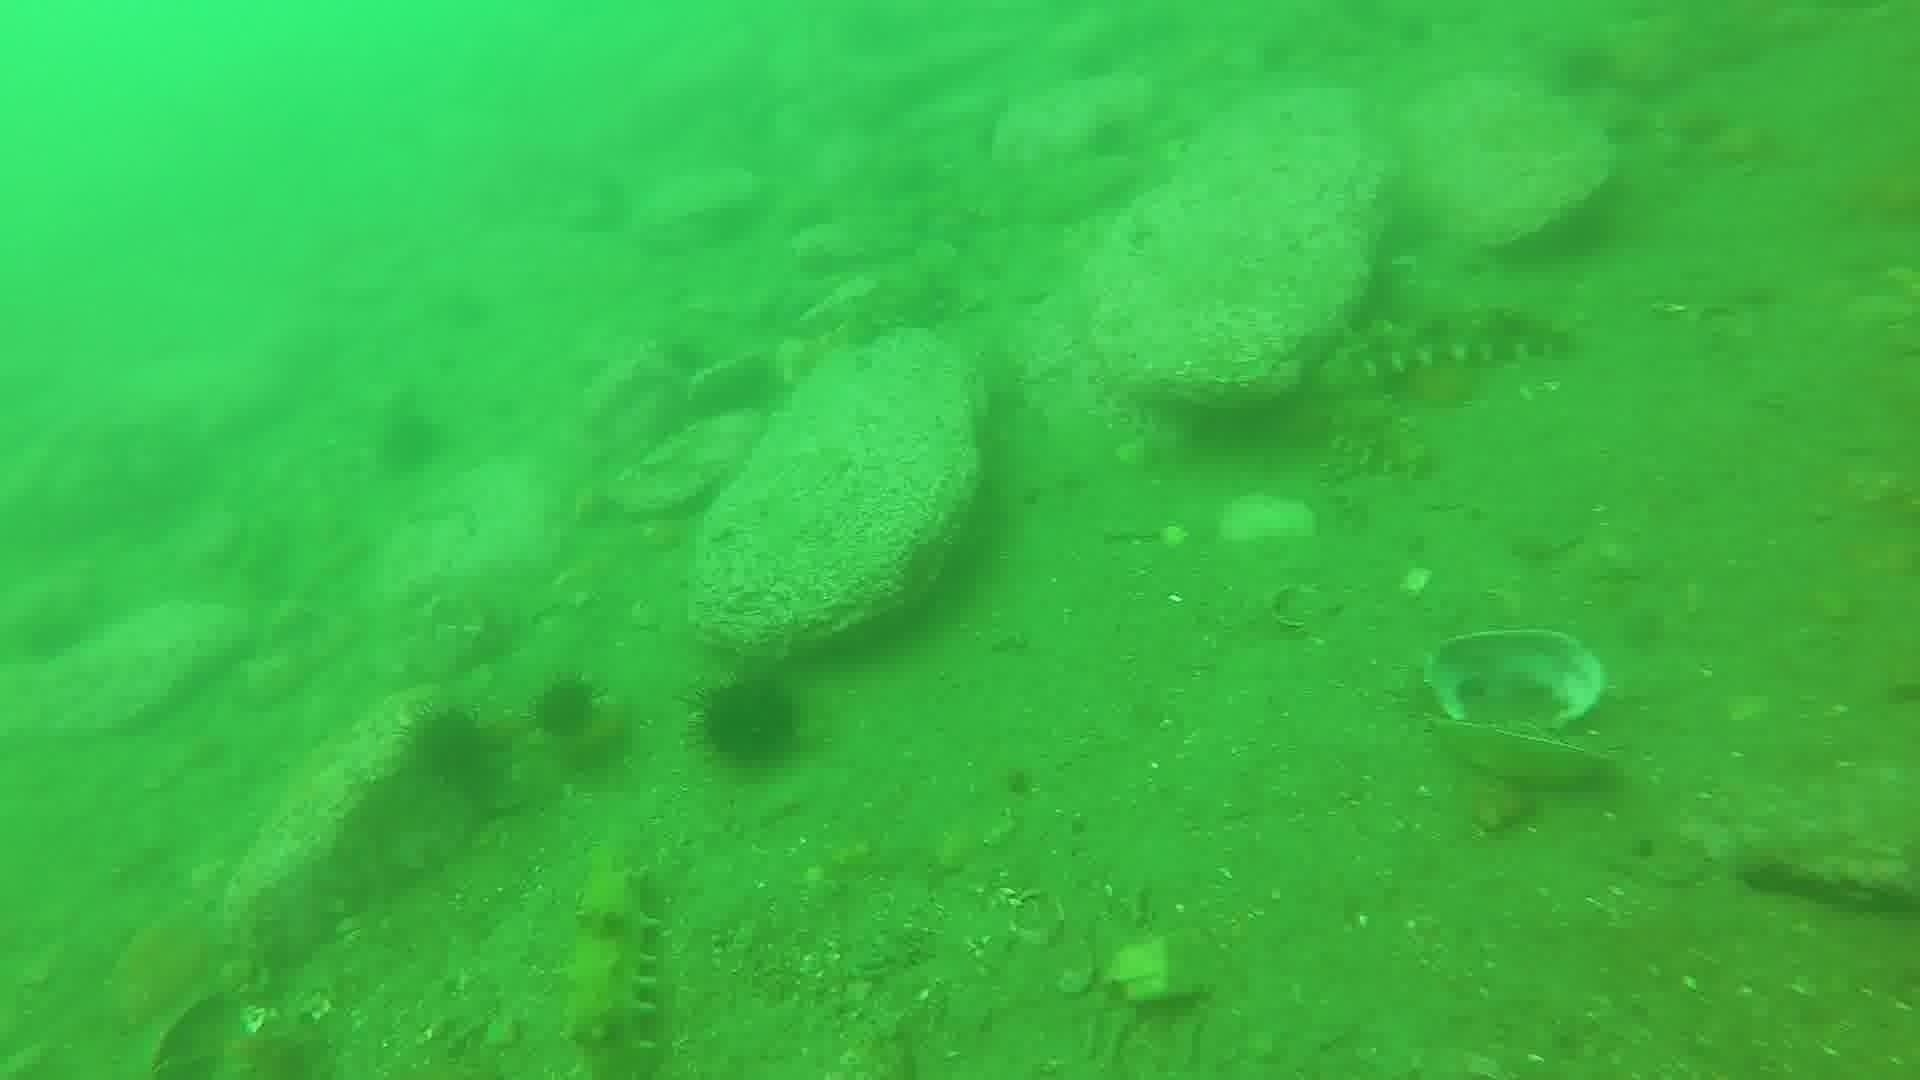echinus: (688, 670, 810, 777), (400, 703, 506, 800), (371, 406, 448, 481), (527, 673, 607, 745)
holothurian: (553, 852, 669, 1069), (1332, 301, 1581, 388), (1320, 393, 1435, 485)
